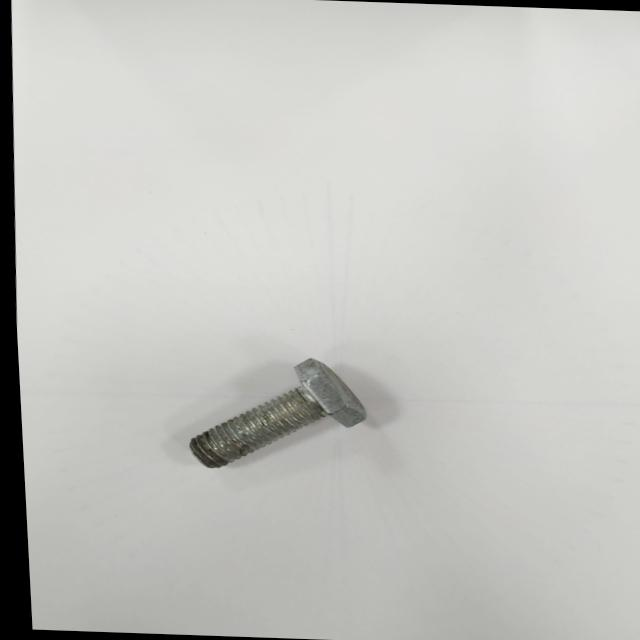Bolt: (184, 358, 360, 467)
